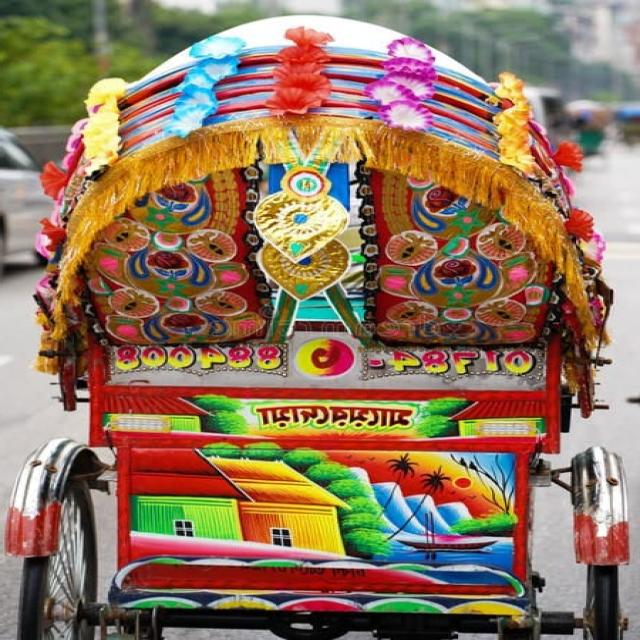Rickshaw: (1, 14, 640, 640)
